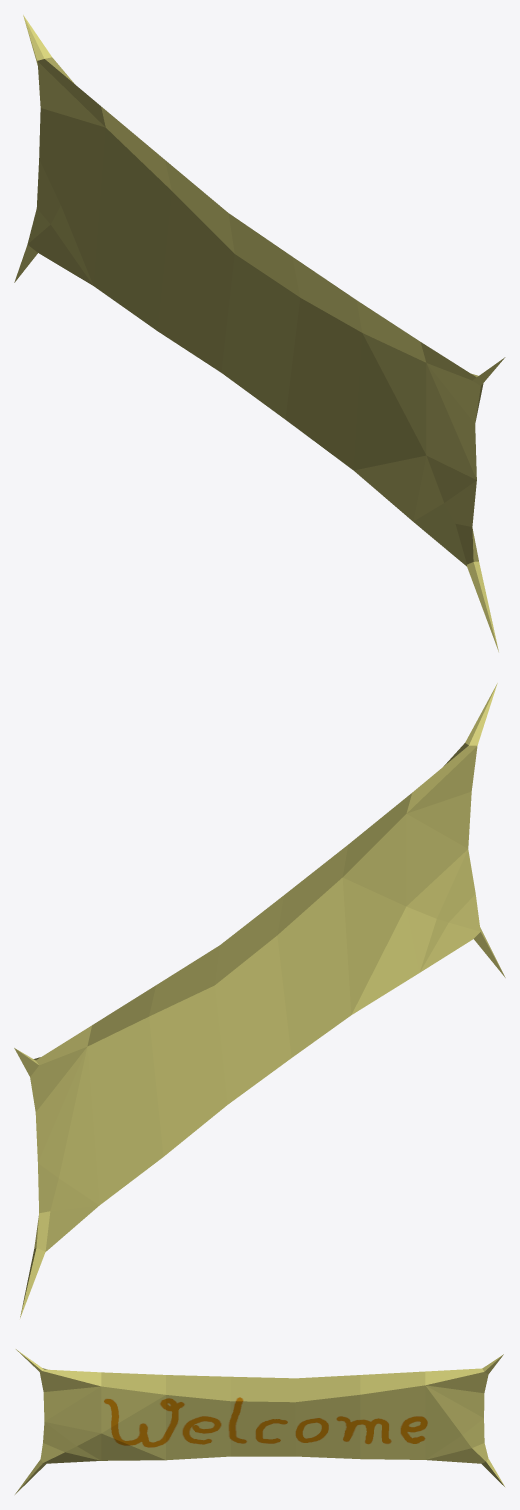
The model's file is welcomeTransparent.fbx.
3 renders of one model, top to bottom at view 1: azimuth 30°, elevation 25°; view 2: azimuth 150°, elevation 25°; view 3: azimuth 270°, elevation 25°, orthographic. The views are drawn at different scales.
Parts seen in each view (by area): view 1: Plane; view 2: Plane; view 3: Plane.
Boxes of the visible parts, x1,y1,x2,y2 form: Plane: (14, 15, 505, 651); Plane: (14, 683, 505, 1318); Plane: (15, 1349, 505, 1494).
Bounding box in the file's own units: 17 × 187 × 557.
